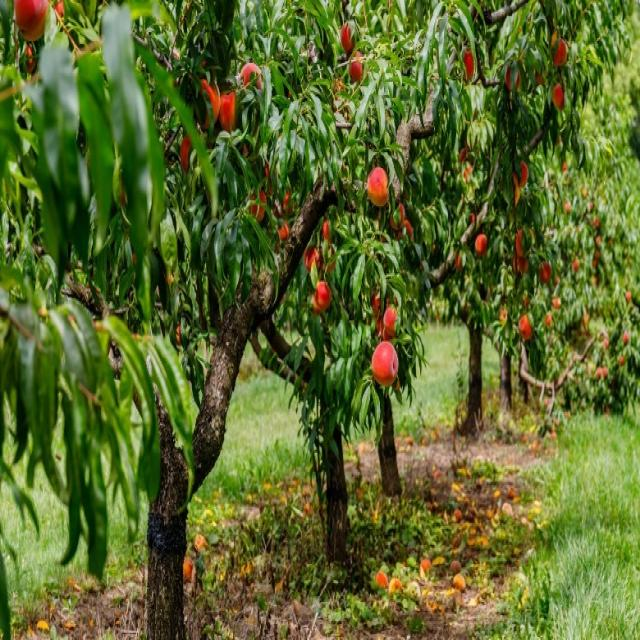peach: (0, 0, 459, 394), (502, 2, 640, 390)
